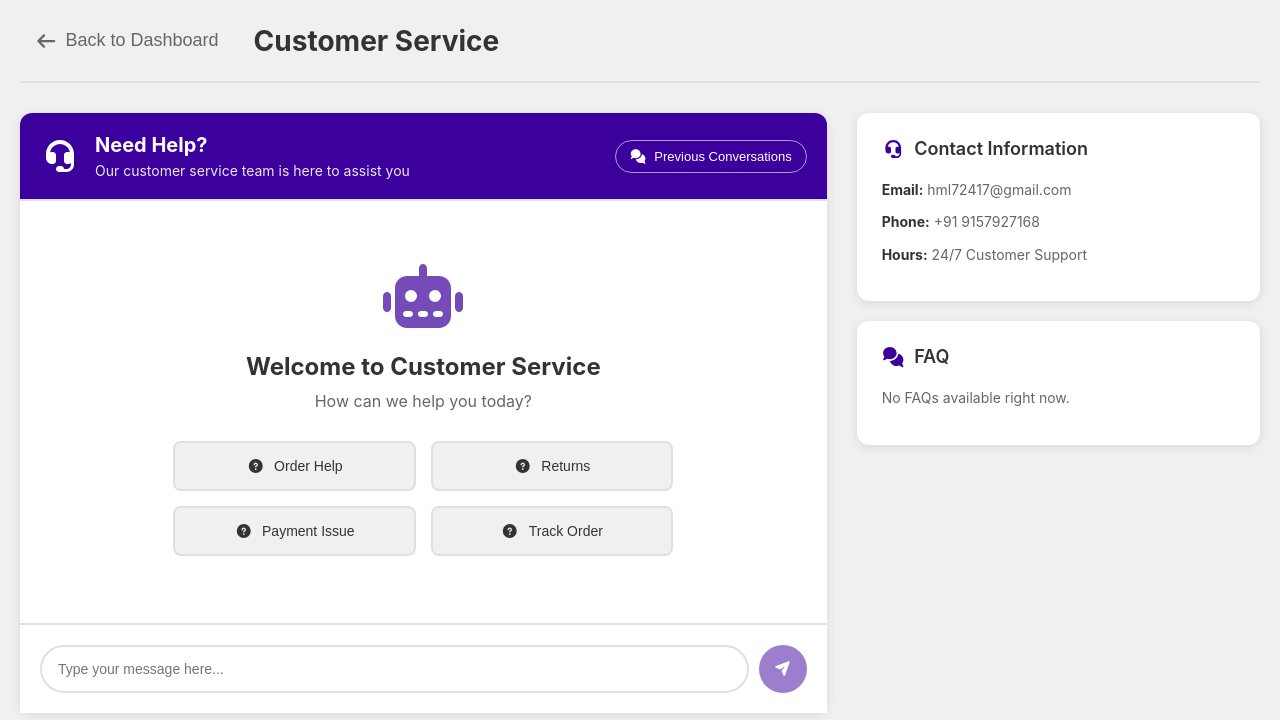
Test: CustomerService Component › resets conversation and clears messages
This screenshot has width=1280, height=720.
// send a message to make reset button appear
Type "Hi" into the field with placeholder "Type your message here...".
click(394, 669); type("Hi")  # box [40,645,749,693]
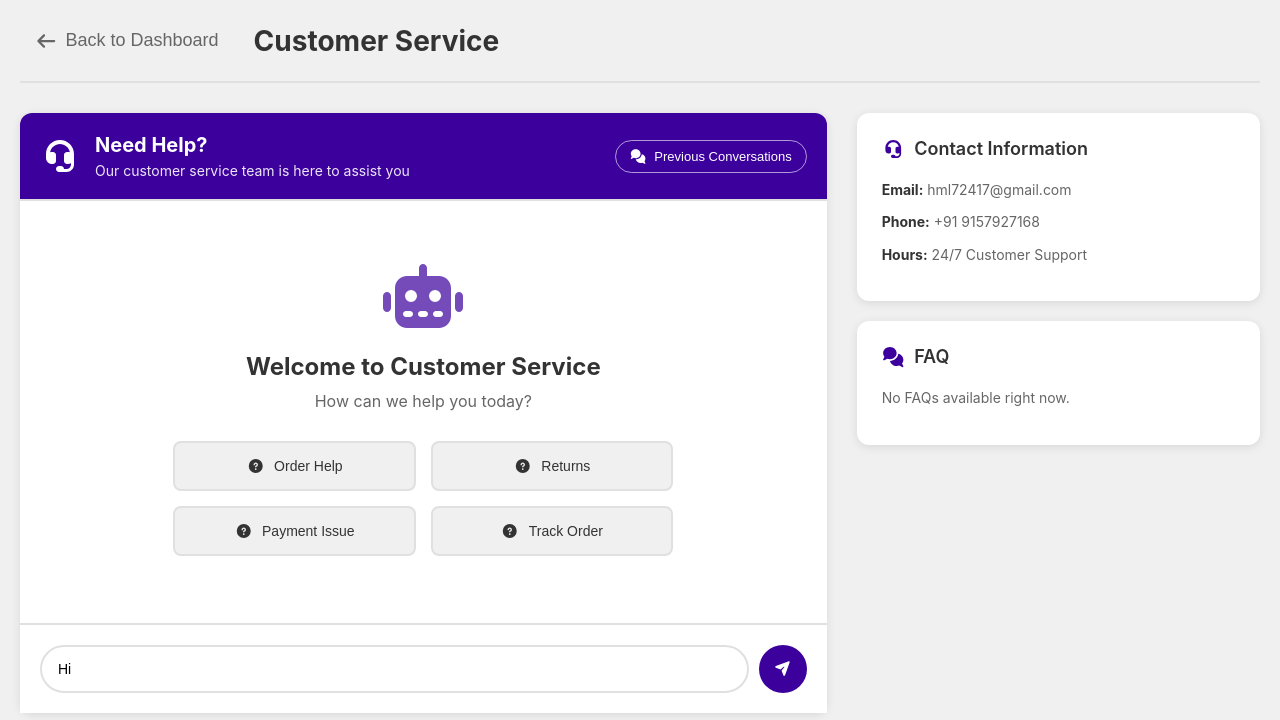
Click the button named "send message".
click(783, 669)  # box [759,645,807,693]
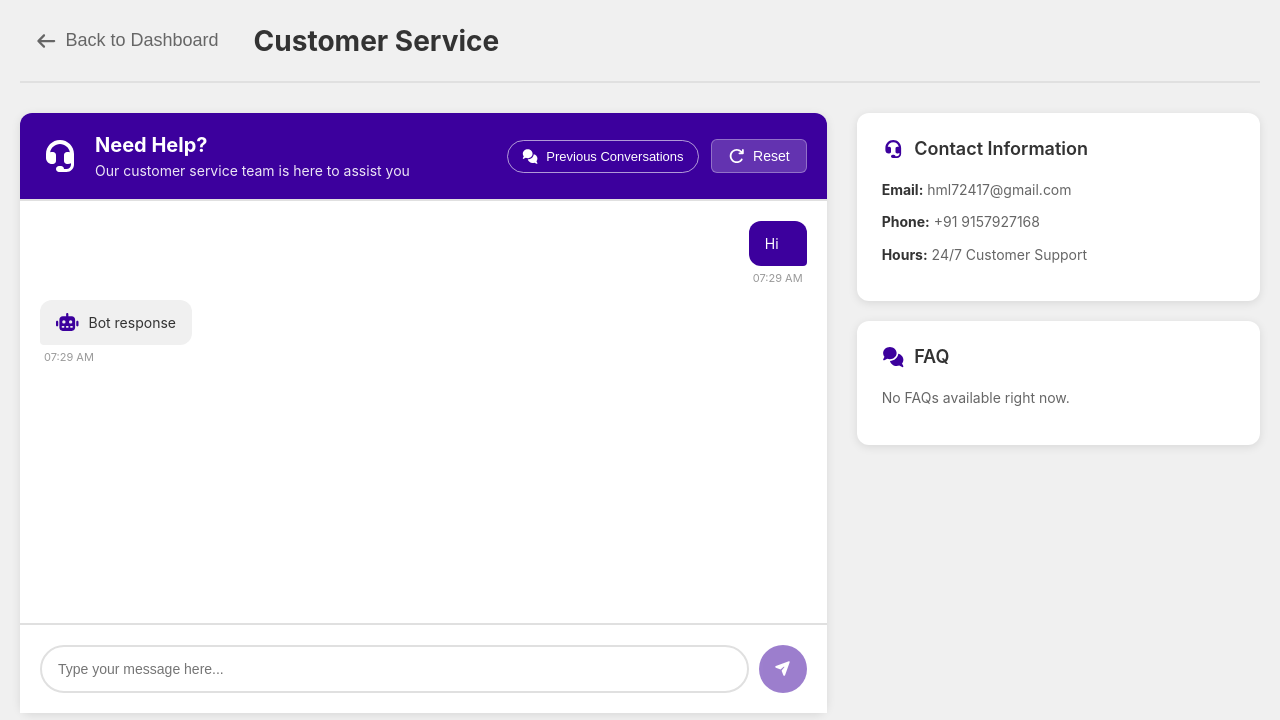
Expected: the text "Hi" is shown, [765,233,779,254]
Click the button titled "Reset Conversation".
click(759, 156)  # box [711,139,807,173]
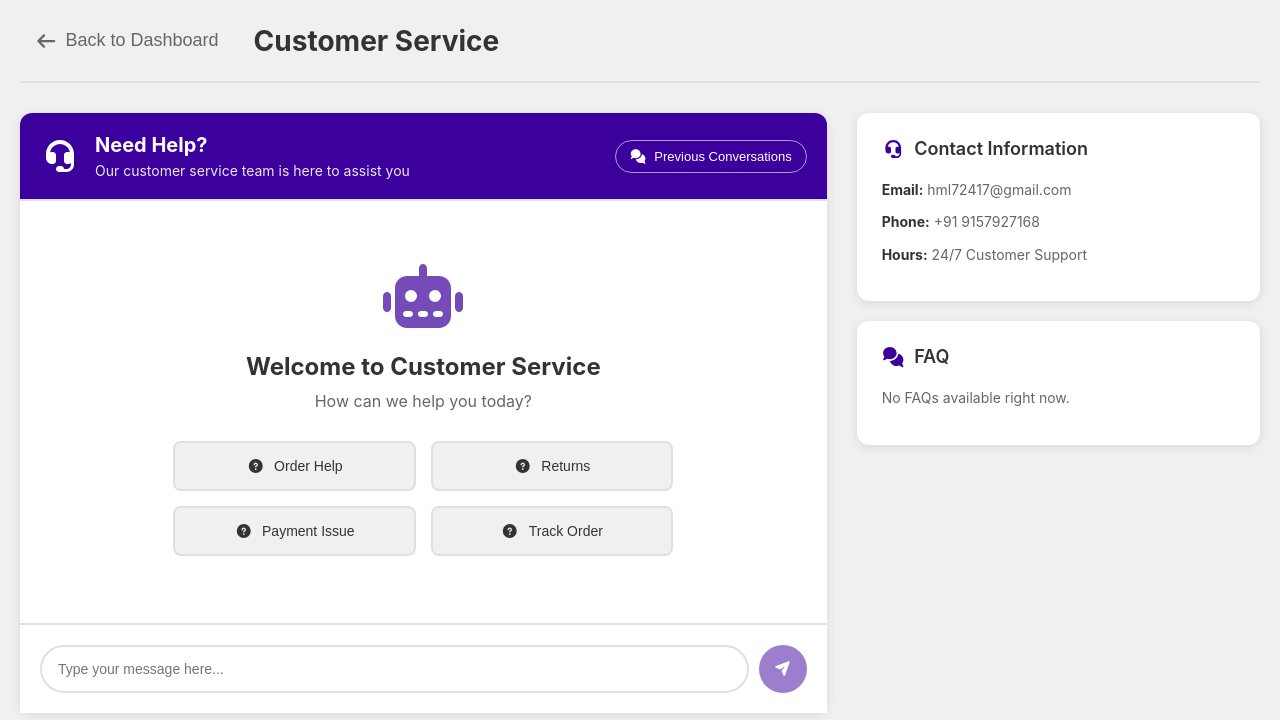
Expected: the heading "Welcome to Customer Service" is shown, [246,352,601,381]
